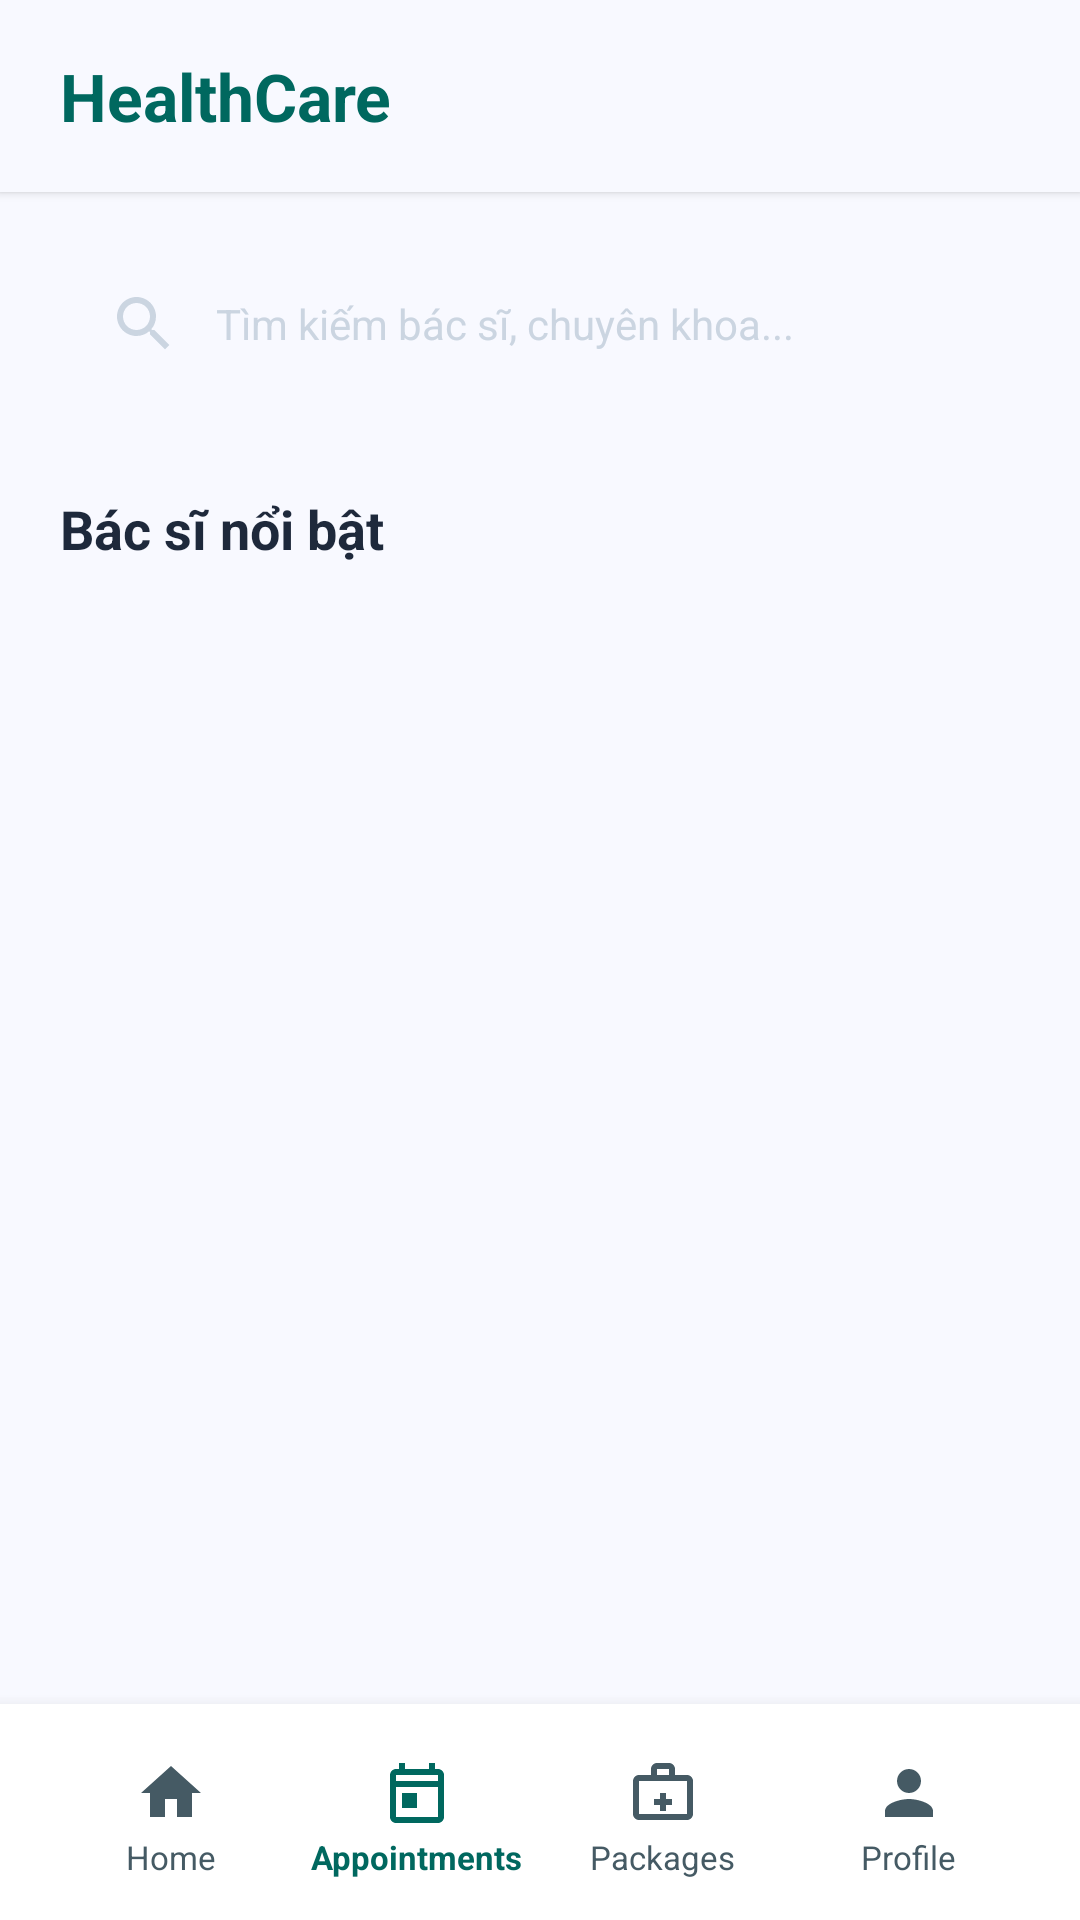

Where icons sit on this 1080px x 1920px app screen, as (left=x1, top=y1, right=x2, bottom=y2):
calendar: (left=390, top=1763, right=444, bottom=1823)
search: (left=117, top=297, right=169, bottom=349)
